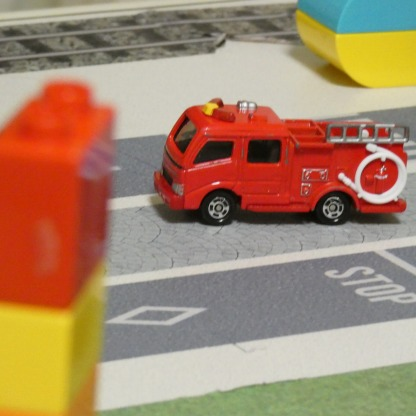car: (158, 96, 408, 225)
